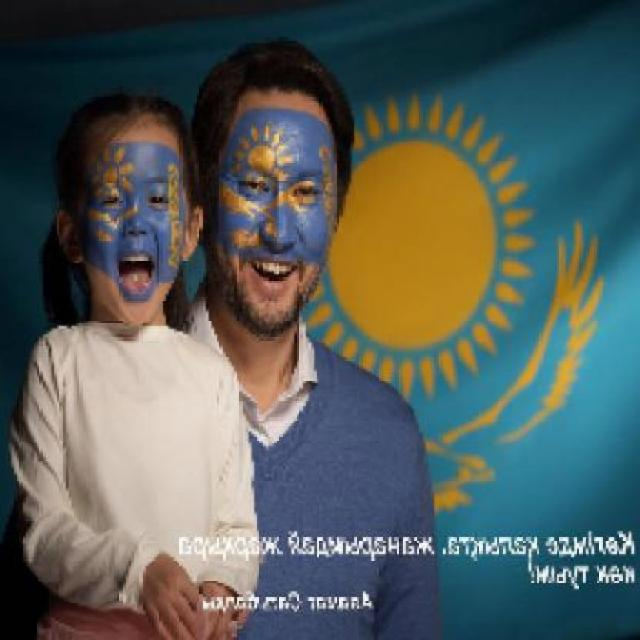child: (6, 92, 266, 638)
